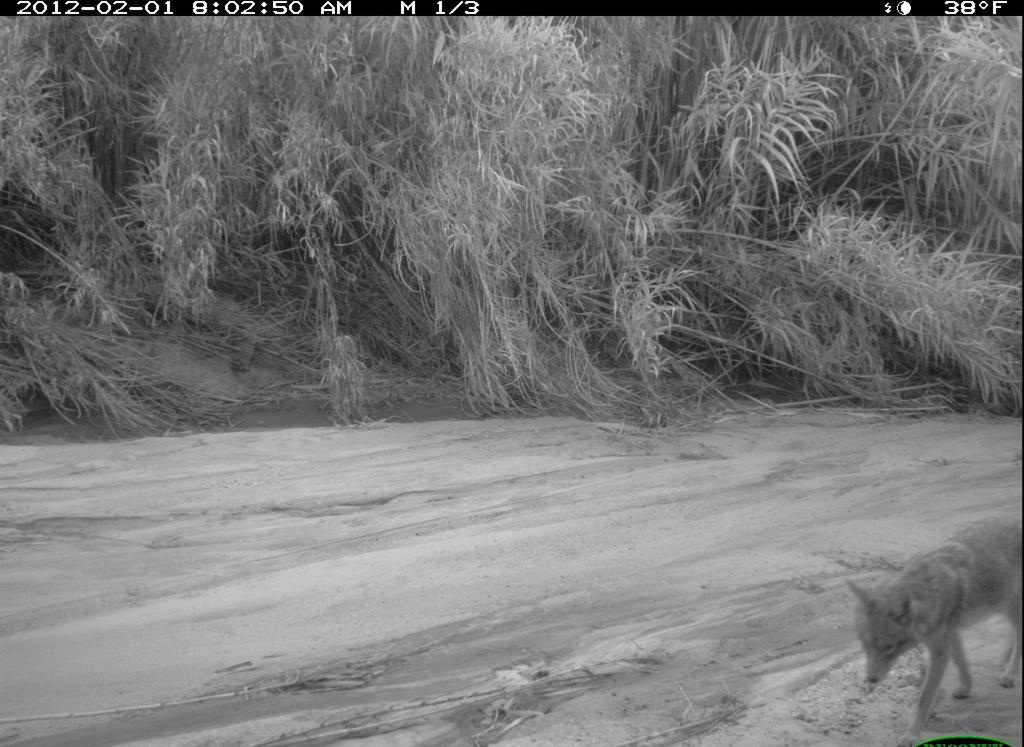coyote: (831, 505, 1023, 745)
